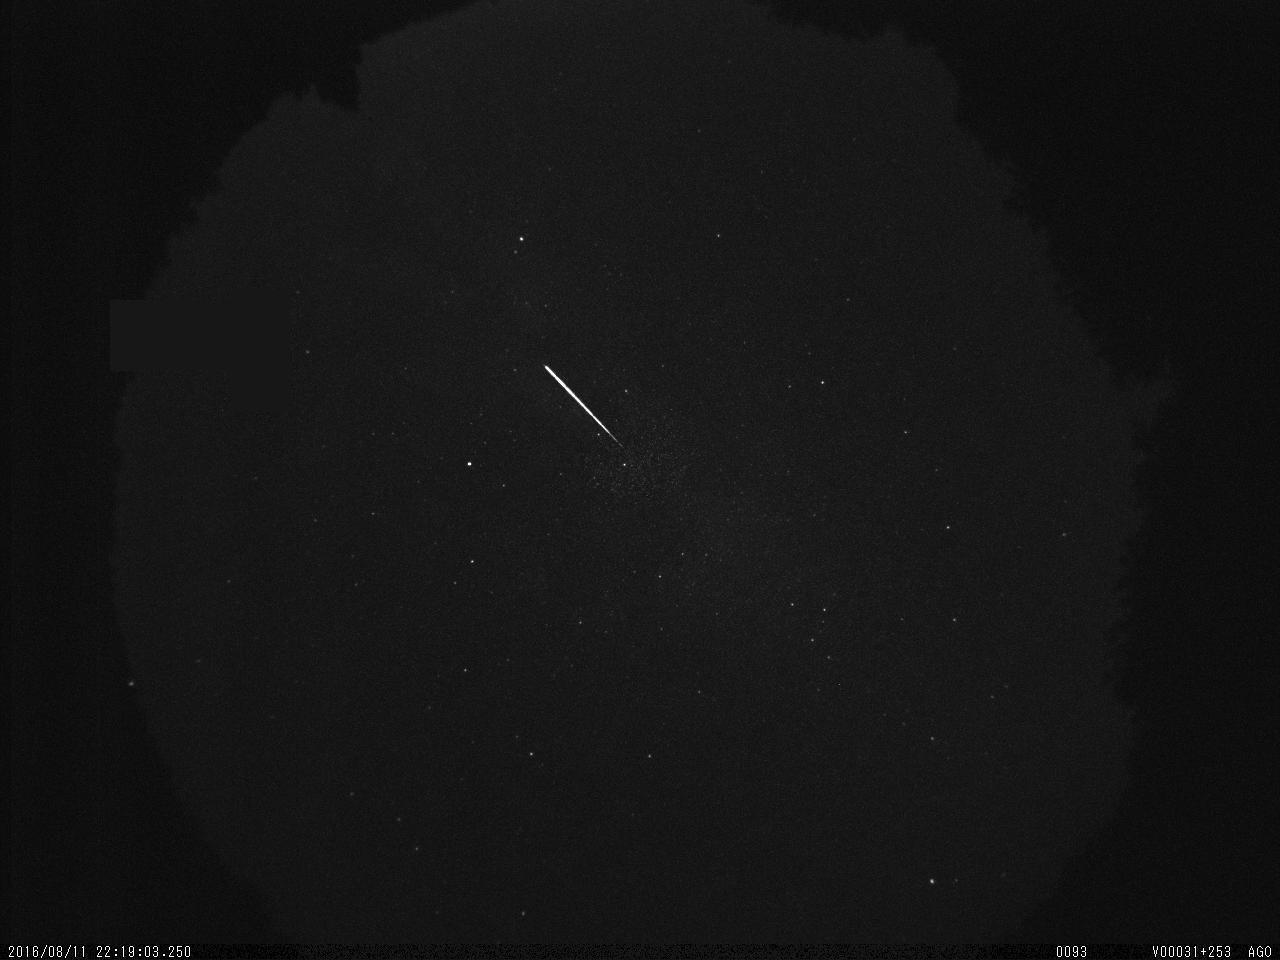Meteor: (541, 360, 623, 446)
